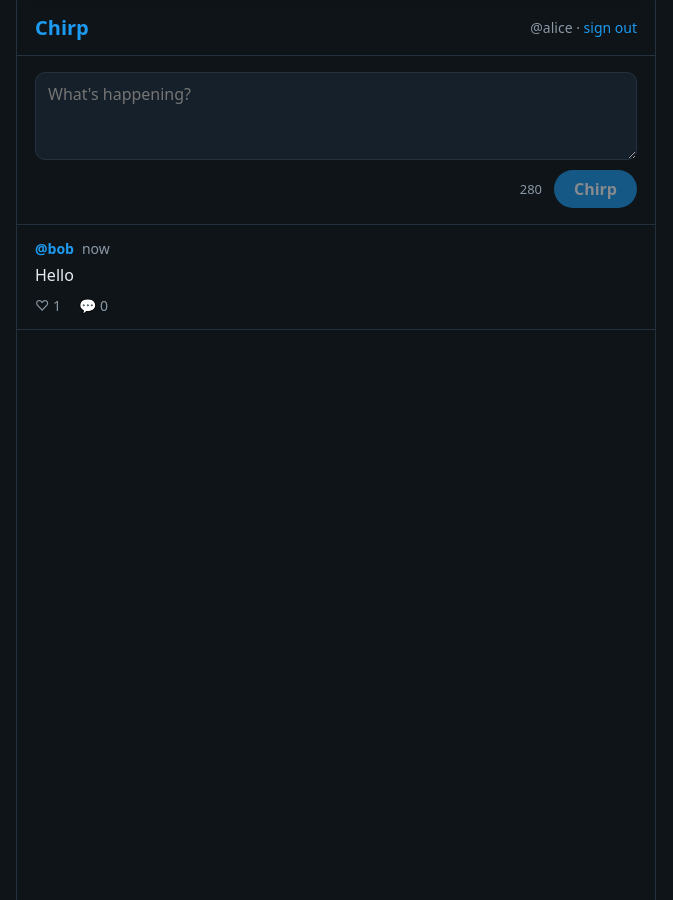
Test: App › opens threads, returns to the feed, filters by author, and updates likes in place
Click the text "Hello": {"x": 54, "y": 275} [35,264,74,286]
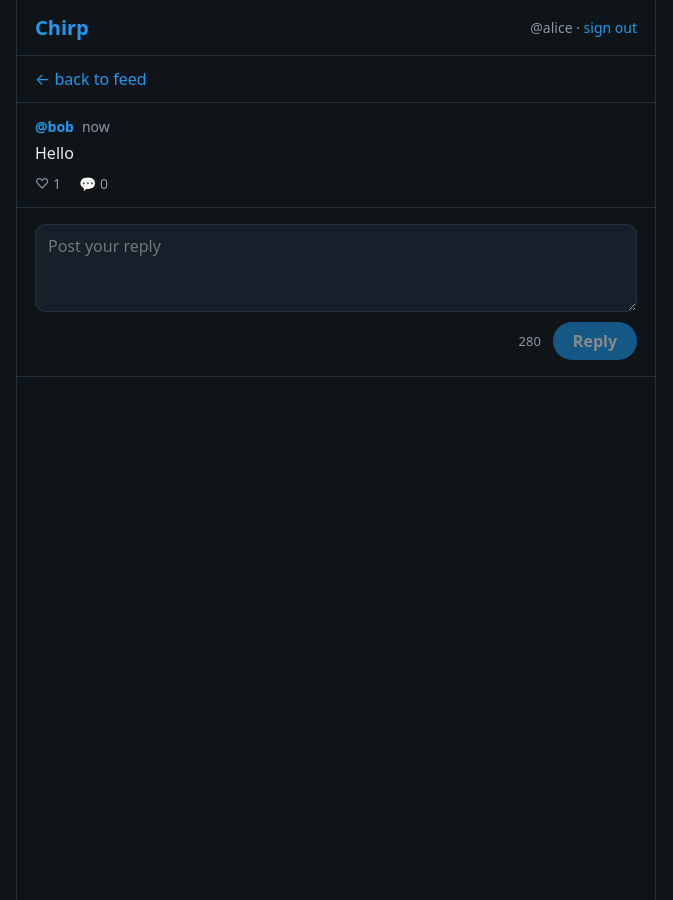
expect the button "← back to feed" is shown: met
Click the button "← back to feed": {"x": 91, "y": 79} [35,68,147,90]
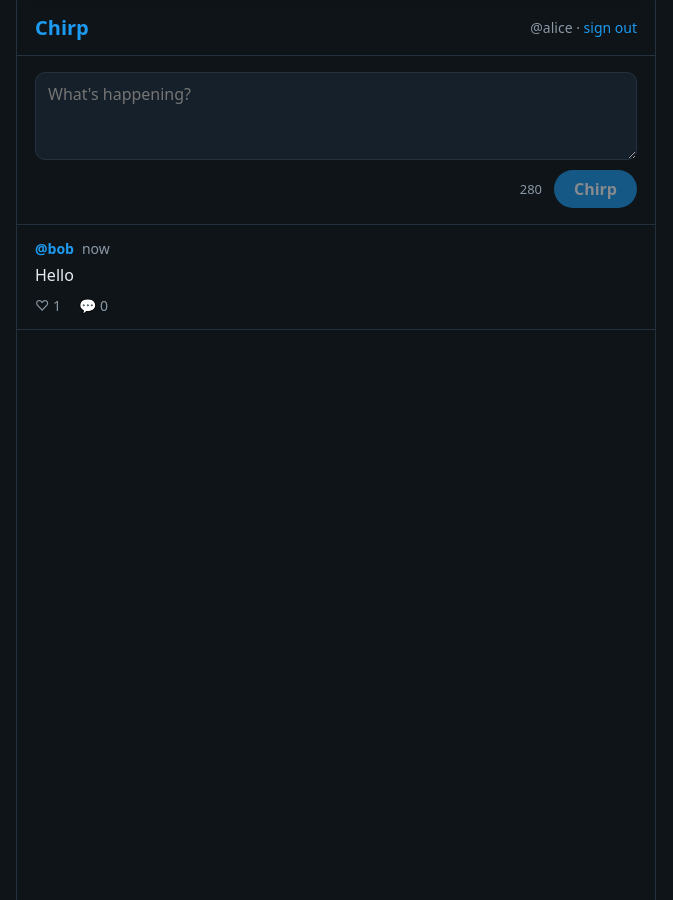
Click the button "@bob": {"x": 54, "y": 248} [35,239,74,258]
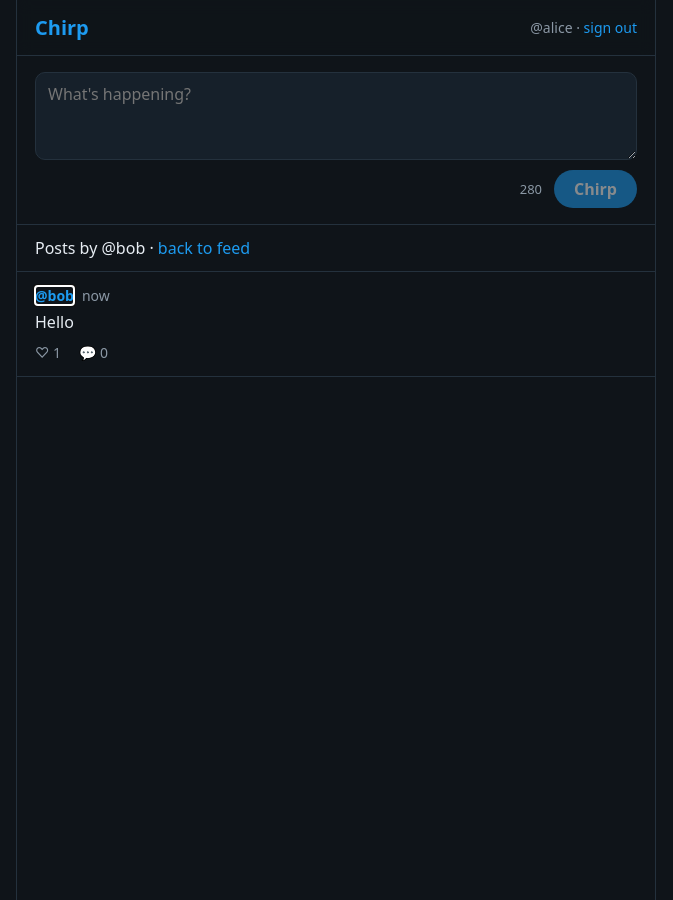
expect the text "Posts by @bob · back to feed" is shown: met, box [17,225,655,272]
Click the button named "Like": {"x": 48, "y": 352} [35,343,61,362]
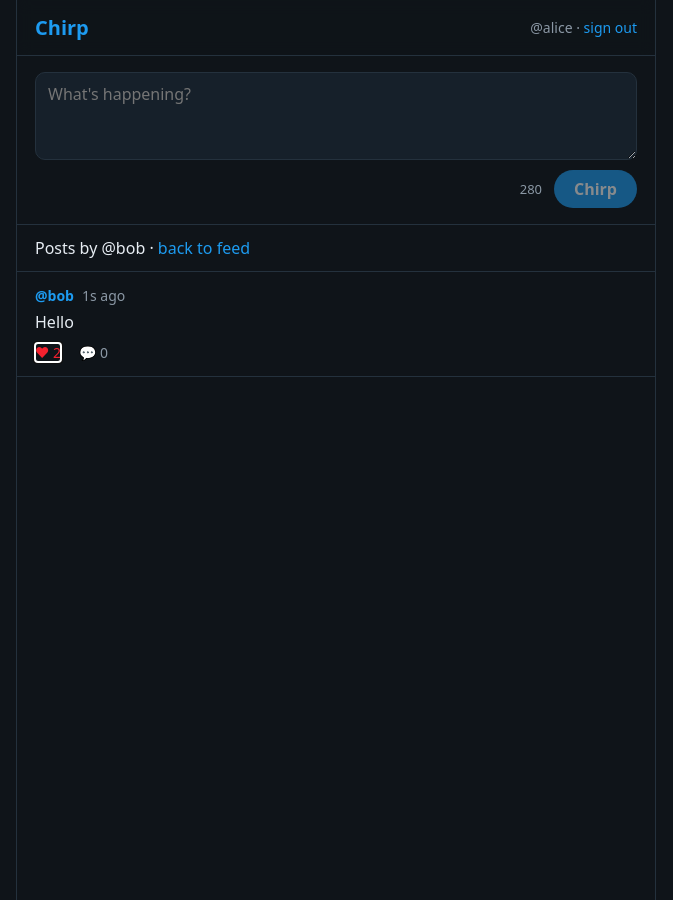
expect the button named "Unlike" shows "2": met, box [35,343,61,362]
